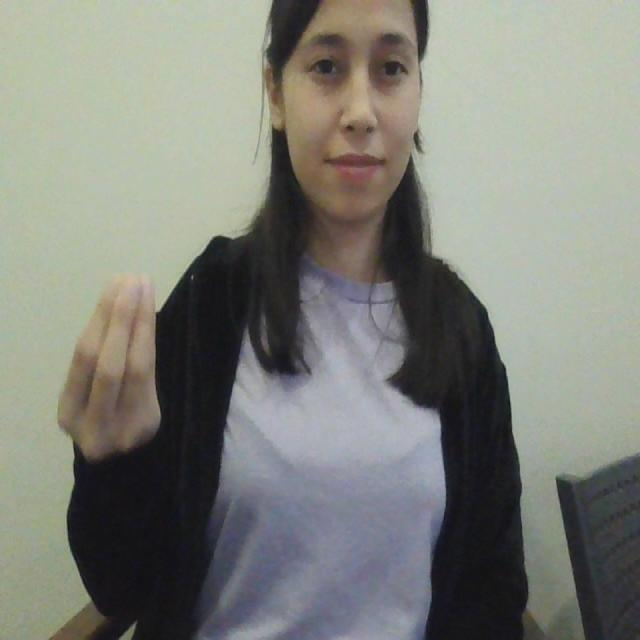iyi: (56, 272, 162, 456)
